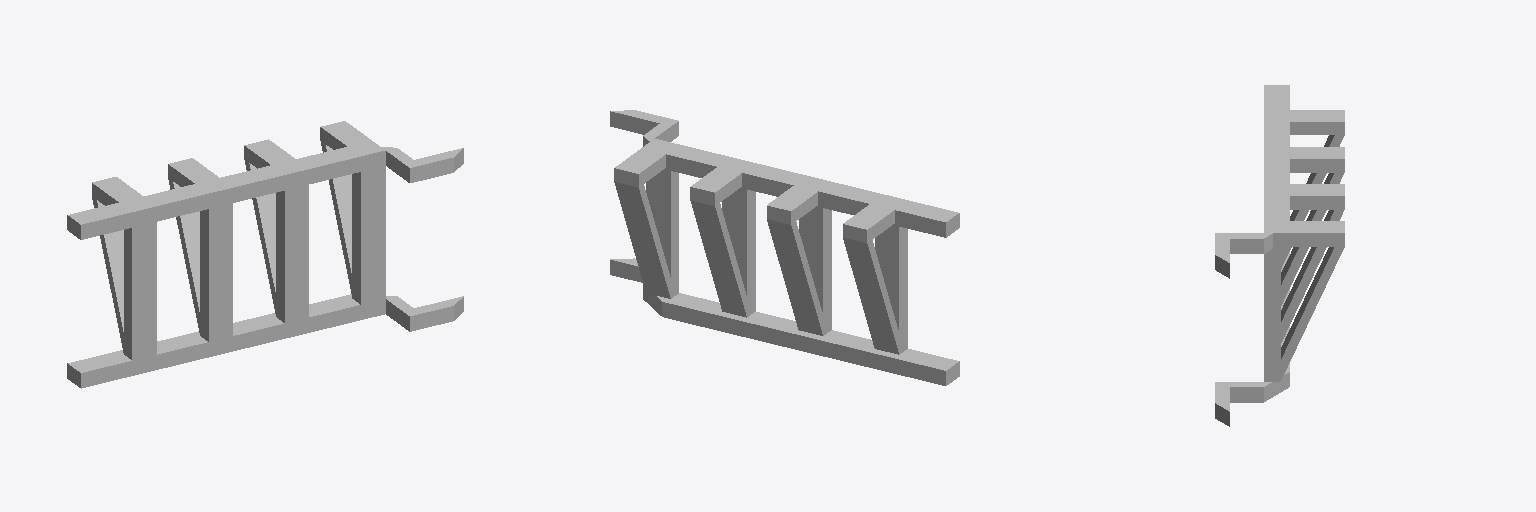
File: armR.obj
3 views of the same model, side by side, from view 1: azimuth 30°, elevation 25°; view 2: azimuth 150°, elevation 25°; view 3: azimuth 270°, elevation 25° (orthographic).
Parts seen in each view (by area): view 1: Mesh1 Group2 Group1 Model, Mesh3 Group3 Group1 Model, Mesh14 Group7 Group1 Model, Mesh5 Group4 Group1 Model, Mesh11 Group6 Group1 Model, Mesh8 Group5 Group1 Model; view 2: Mesh3 Group3 Group1 Model, Mesh1 Group2 Group1 Model, Mesh5 Group4 Group1 Model, Mesh8 Group5 Group1 Model, Mesh11 Group6 Group1 Model, Mesh14 Group7 Group1 Model; view 3: Mesh14 Group7 Group1 Model, Mesh1 Group2 Group1 Model, Mesh5 Group4 Group1 Model, Mesh11 Group6 Group1 Model, Mesh8 Group5 Group1 Model, Mesh3 Group3 Group1 Model.
Part boxes in pixels (x1,y1,x2,y2): Mesh1 Group2 Group1 Model: (67, 146, 463, 239); Mesh3 Group3 Group1 Model: (67, 294, 463, 388); Mesh14 Group7 Group1 Model: (320, 121, 385, 304); Mesh5 Group4 Group1 Model: (244, 139, 308, 322); Mesh11 Group6 Group1 Model: (168, 158, 232, 341); Mesh8 Group5 Group1 Model: (92, 177, 156, 360); Mesh3 Group3 Group1 Model: (610, 258, 959, 385); Mesh1 Group2 Group1 Model: (610, 110, 959, 237); Mesh5 Group4 Group1 Model: (690, 157, 755, 317); Mesh8 Group5 Group1 Model: (843, 194, 907, 354); Mesh11 Group6 Group1 Model: (767, 176, 831, 335); Mesh14 Group7 Group1 Model: (614, 140, 678, 298); Mesh14 Group7 Group1 Model: (1264, 221, 1344, 381); Mesh1 Group2 Group1 Model: (1215, 85, 1289, 278); Mesh5 Group4 Group1 Model: (1264, 184, 1344, 342); Mesh11 Group6 Group1 Model: (1264, 147, 1344, 305); Mesh8 Group5 Group1 Model: (1264, 110, 1344, 268); Mesh3 Group3 Group1 Model: (1215, 252, 1289, 426).
Size of the model in its own units: 2064 by 881 by 632.